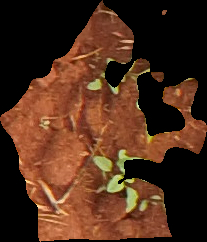soil: (2, 1, 205, 242)
